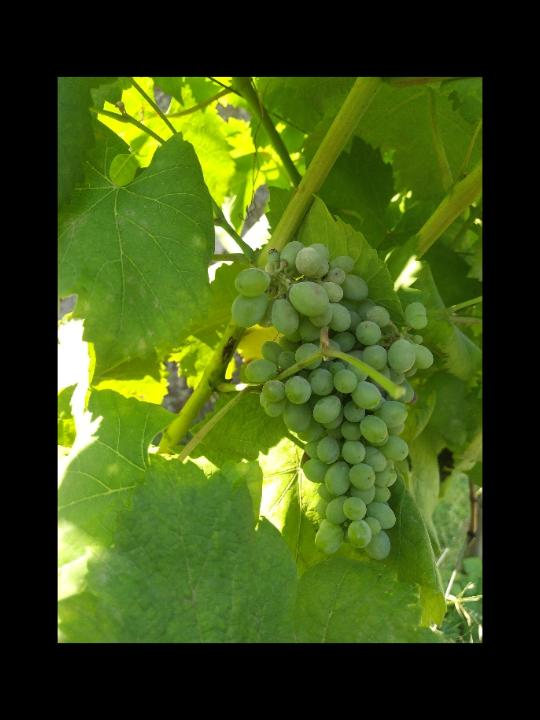grape: (230, 243, 434, 561)
